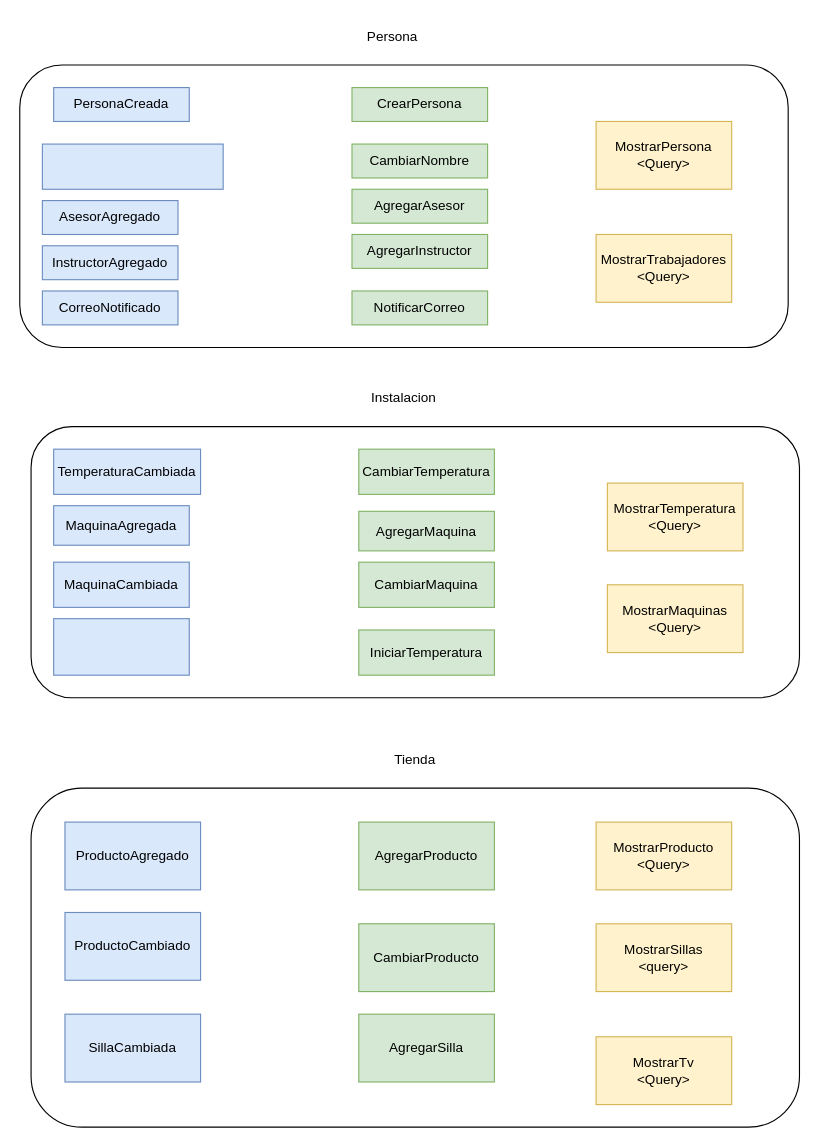
The diagram is 819 pixels wide and 1147 high, and some of its shapes have lost their labels. Each missing label, with the centre of its shape:
"NombreCompletoCambiado" belongs at [132,166].
"TemperaturaIniciada" belongs at [121,646].
